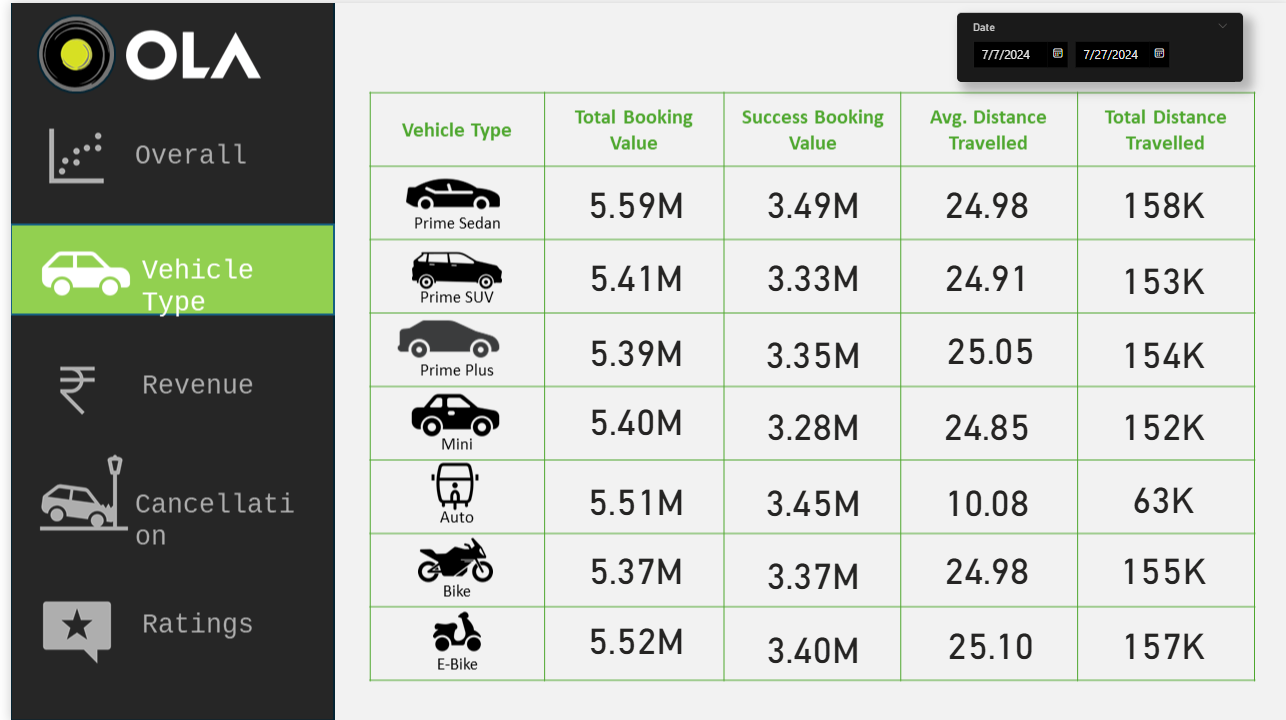

The page's visual inventory and layout, read from the dashboard file:
{"tool":"powerbi","page":{"name":"Vehicle Type","canvas":[1280,720],"ordinal":1},"visuals":[{"type":"actionButton","box":[0,442.5,322.5,108.8],"z":0},{"type":"actionButton","box":[0,566.2,322.5,106.2],"z":1000},{"type":"actionButton","box":[0,338.8,322.5,93.8],"z":2000},{"type":"actionButton","box":[0,105,322.5,92.5],"z":3000},{"type":"card","fields":{"Values":["Sum(July.Booking_Value)"]},"box":[545.7,167.1,157.1,62.9],"z":4000},{"type":"card","fields":{"Values":["Sum(July.Booking_Value)"]},"box":[545.7,245.7,157.1,52.9],"z":5000},{"type":"card","fields":{"Values":["Sum(July.Booking_Value)"]},"box":[545.7,321.4,157.1,52.9],"z":6000},{"type":"card","fields":{"Values":["Sum(July.Booking_Value)"]},"box":[545.7,390,157.1,52.9],"z":7000},{"type":"card","fields":{"Values":["Sum(July.Booking_Value)"]},"box":[545.7,470,157.1,52.9],"z":8000},{"type":"card","fields":{"Values":["Sum(July.Booking_Value)"]},"box":[545.7,538.6,157.1,52.9],"z":9000},{"type":"card","fields":{"Values":["Sum(July.Booking_Value)"]},"box":[545.7,608.6,157.1,52.9],"z":10000},{"type":"card","fields":{"Values":["Sum(July.Booking_Value)"]},"box":[724.3,167.1,157.1,62.9],"z":11000},{"type":"card","fields":{"Values":["Sum(July.Booking_Value)"]},"box":[724.3,241.4,157.1,62.9],"z":12000},{"type":"card","fields":{"Values":["Sum(July.Booking_Value)"]},"box":[724.3,317.1,157.1,62.9],"z":13000},{"type":"card","fields":{"Values":["Sum(July.Booking_Value)"]},"box":[724.3,390,157.1,62.9],"z":14000},{"type":"card","fields":{"Values":["Sum(July.Booking_Value)"]},"box":[724.3,465.7,157.1,62.9],"z":15000},{"type":"card","fields":{"Values":["Sum(July.Booking_Value)"]},"box":[724.3,538.6,157.1,62.9],"z":16000},{"type":"card","fields":{"Values":["Sum(July.Booking_Value)"]},"box":[724.3,612.9,157.1,62.9],"z":17000},{"type":"card","fields":{"Values":["Avg(July.Ride_Distance)"]},"box":[897.1,167.1,157.1,62.9],"z":18000},{"type":"card","fields":{"Values":["Avg(July.Ride_Distance)"]},"box":[897.1,241.4,157.1,62.9],"z":19000},{"type":"card","fields":{"Values":["Avg(July.Ride_Distance)"]},"box":[901.1,313.4,157.1,62.9],"z":20000},{"type":"card","fields":{"Values":["Avg(July.Ride_Distance)"]},"box":[897.1,390,157.1,62.9],"z":21000},{"type":"card","fields":{"Values":["Avg(July.Ride_Distance)"]},"box":[897.1,462.9,157.1,68.6],"z":22000},{"type":"card","fields":{"Values":["Avg(July.Ride_Distance)"]},"box":[897.1,534.3,157.1,62.9],"z":23000},{"type":"card","fields":{"Values":["Avg(July.Ride_Distance)"]},"box":[901.1,609.1,157.1,62.9],"z":24000},{"type":"card","fields":{"Values":["Sum(July.Ride_Distance)"]},"box":[1074.3,167.1,157.1,62.9],"z":25000},{"type":"card","fields":{"Values":["Sum(July.Ride_Distance)"]},"box":[1074.3,241.4,157.1,68.6],"z":26000},{"type":"card","fields":{"Values":["Sum(July.Ride_Distance)"]},"box":[1074.3,317.1,157.1,62.9],"z":27000},{"type":"card","fields":{"Values":["Sum(July.Ride_Distance)"]},"box":[1074.3,390,157.1,62.9],"z":28000},{"type":"card","fields":{"Values":["Sum(July.Ride_Distance)"]},"box":[1074.3,460,157.1,68.6],"z":29000},{"type":"card","fields":{"Values":["Sum(July.Ride_Distance)"]},"box":[1074.3,534.3,157.1,62.9],"z":30000},{"type":"card","fields":{"Values":["Sum(July.Ride_Distance)"]},"box":[1074.3,608.6,157.1,62.9],"z":31000},{"type":"slicer","title":"DATE","fields":{"Values":["July.Date"]},"box":[945.7,10,285.7,68.6],"z":32000}]}

Visuals, with their boxes on the page's 1280x720 design canvas (x1, y1, x2, y2). These are canvas units, not pixel positions in the 1286x720 screenshot, which may show the page scaled, cropped or inside an application window:
actionButton: (left=0, top=442, right=322, bottom=551)
actionButton: (left=0, top=566, right=322, bottom=672)
actionButton: (left=0, top=339, right=322, bottom=433)
actionButton: (left=0, top=105, right=322, bottom=198)
card - Sum(July.Booking_Value): (left=546, top=167, right=703, bottom=230)
card - Sum(July.Booking_Value): (left=546, top=246, right=703, bottom=299)
card - Sum(July.Booking_Value): (left=546, top=321, right=703, bottom=374)
card - Sum(July.Booking_Value): (left=546, top=390, right=703, bottom=443)
card - Sum(July.Booking_Value): (left=546, top=470, right=703, bottom=523)
card - Sum(July.Booking_Value): (left=546, top=539, right=703, bottom=592)
card - Sum(July.Booking_Value): (left=546, top=609, right=703, bottom=662)
card - Sum(July.Booking_Value): (left=724, top=167, right=881, bottom=230)
card - Sum(July.Booking_Value): (left=724, top=241, right=881, bottom=304)
card - Sum(July.Booking_Value): (left=724, top=317, right=881, bottom=380)
card - Sum(July.Booking_Value): (left=724, top=390, right=881, bottom=453)
card - Sum(July.Booking_Value): (left=724, top=466, right=881, bottom=529)
card - Sum(July.Booking_Value): (left=724, top=539, right=881, bottom=602)
card - Sum(July.Booking_Value): (left=724, top=613, right=881, bottom=676)
card - Avg(July.Ride_Distance): (left=897, top=167, right=1054, bottom=230)
card - Avg(July.Ride_Distance): (left=897, top=241, right=1054, bottom=304)
card - Avg(July.Ride_Distance): (left=901, top=313, right=1058, bottom=376)
card - Avg(July.Ride_Distance): (left=897, top=390, right=1054, bottom=453)
card - Avg(July.Ride_Distance): (left=897, top=463, right=1054, bottom=532)
card - Avg(July.Ride_Distance): (left=897, top=534, right=1054, bottom=597)
card - Avg(July.Ride_Distance): (left=901, top=609, right=1058, bottom=672)
card - Sum(July.Ride_Distance): (left=1074, top=167, right=1231, bottom=230)
card - Sum(July.Ride_Distance): (left=1074, top=241, right=1231, bottom=310)
card - Sum(July.Ride_Distance): (left=1074, top=317, right=1231, bottom=380)
card - Sum(July.Ride_Distance): (left=1074, top=390, right=1231, bottom=453)
card - Sum(July.Ride_Distance): (left=1074, top=460, right=1231, bottom=529)
card - Sum(July.Ride_Distance): (left=1074, top=534, right=1231, bottom=597)
card - Sum(July.Ride_Distance): (left=1074, top=609, right=1231, bottom=672)
"DATE" slicer: (left=946, top=10, right=1231, bottom=79)
